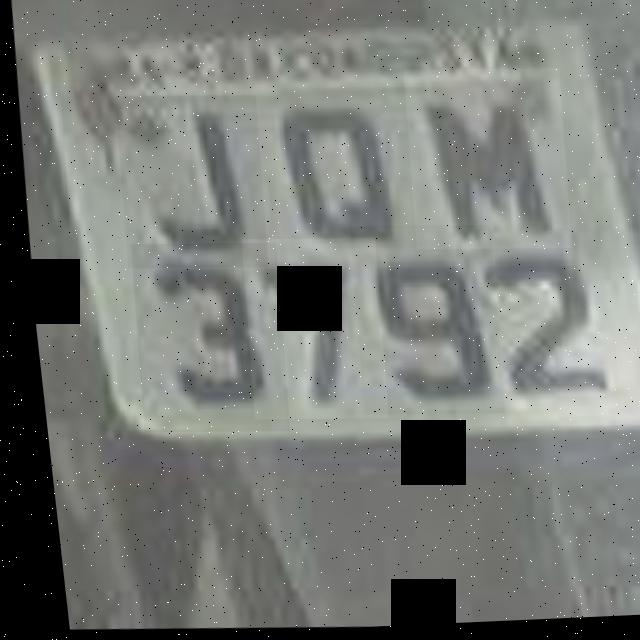2: (450, 228, 617, 422)
3: (118, 240, 286, 438)
7: (229, 236, 384, 426)
9: (337, 224, 500, 422)
J: (106, 91, 268, 274)
M: (395, 67, 572, 258)
